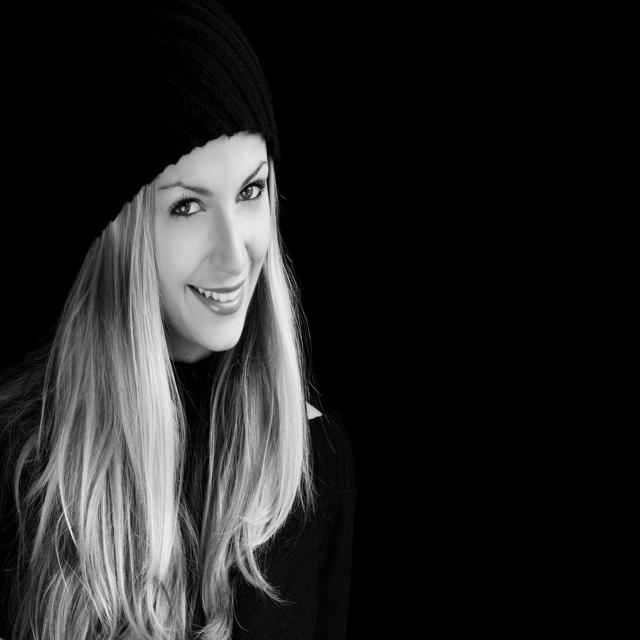Happiness: (147, 130, 280, 355)
